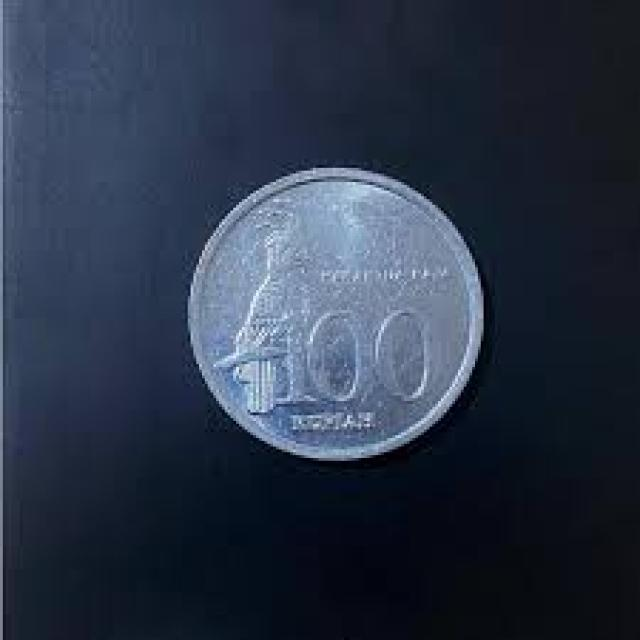500-silver: (189, 168, 484, 461)
